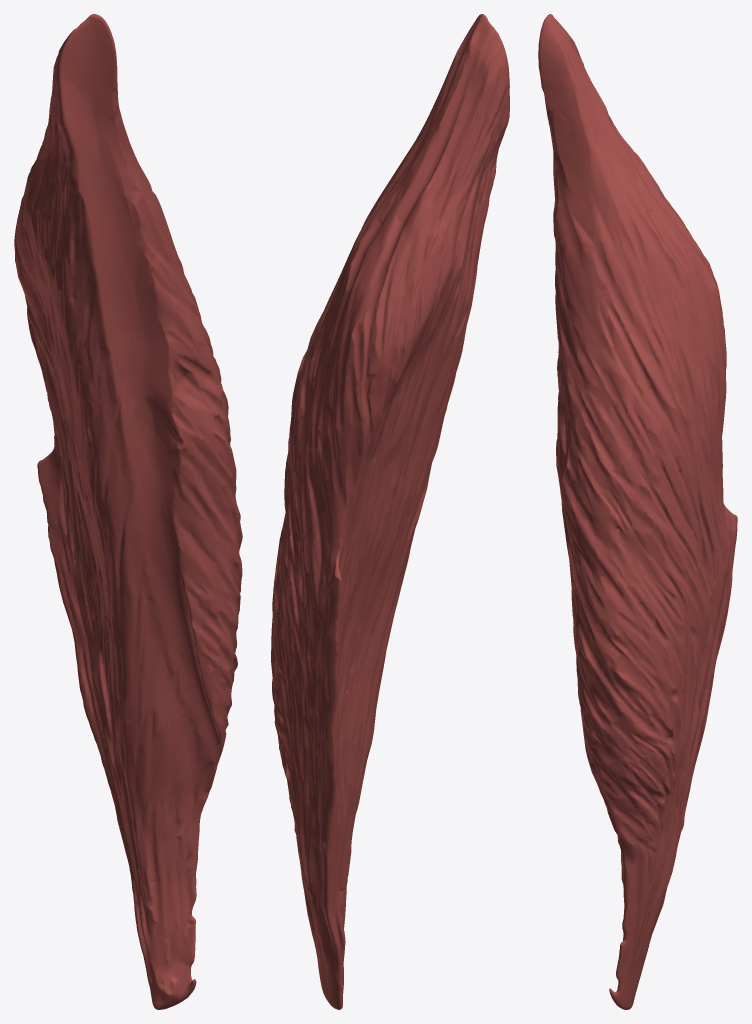
Rendered from FMA37698.glb.
The picture shows the model from 3 angles, left to right: view 1: azimuth 30°, elevation 25°; view 2: azimuth 150°, elevation 25°; view 3: azimuth 270°, elevation 25°; orthographic projection. The views are drawn at different scales.
Visible parts, largest first — view 1: FMA37698; view 2: FMA37698; view 3: FMA37698.
Boxes of the visible parts, <box> form: FMA37698: <box>14,14,242,1009</box>; FMA37698: <box>271,14,509,1009</box>; FMA37698: <box>538,14,737,1009</box>.
Bounding box in the file's own units: 0.0544 × 0.2563 × 0.049.
